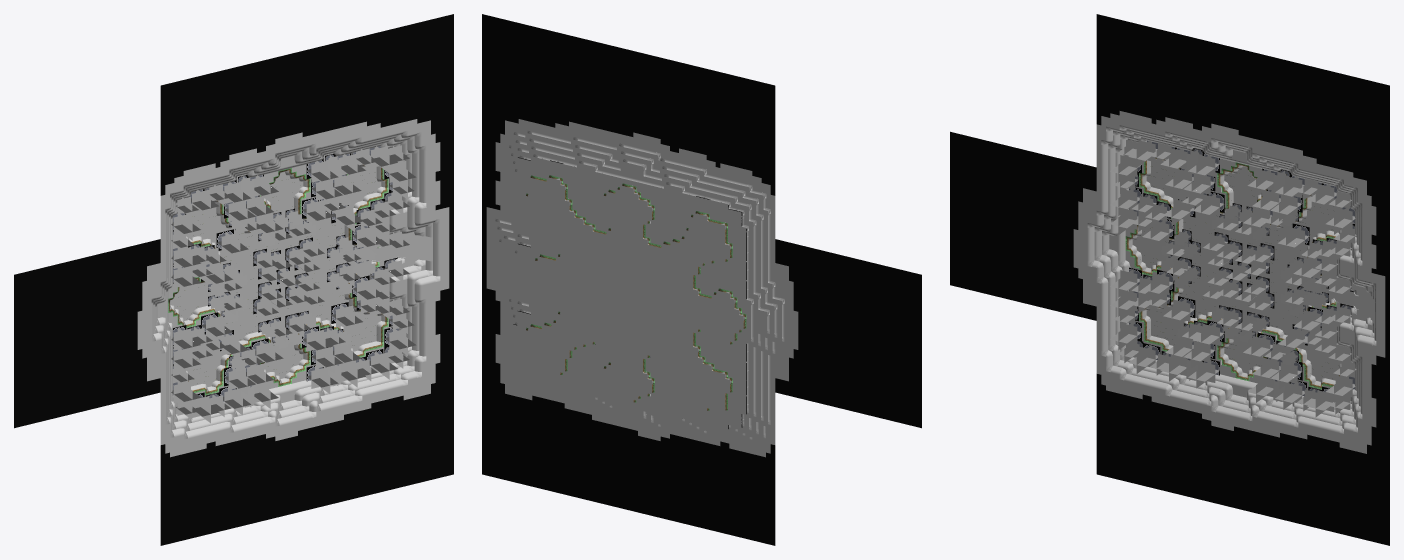
The model's file is Pasture-Place.obj.
3 views of the same model, side by side, from view 1: azimuth 30°, elevation 25°; view 2: azimuth 150°, elevation 25°; view 3: azimuth 330°, elevation 25° (orthographic).
Parts seen in each view (by area): view 1: map; view 2: map; view 3: map.
Part boxes in pixels (bbox=[...]): map: bbox=[14, 14, 453, 545]; map: bbox=[482, 14, 921, 545]; map: bbox=[950, 14, 1389, 545].
Size of the model in its own units: 96 by 96 by 6.95.
